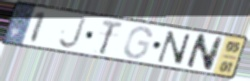1: (31, 11, 48, 44)
G: (122, 25, 154, 60)
J: (57, 15, 89, 50)
N: (183, 33, 225, 73), (156, 29, 192, 67)
T: (97, 18, 125, 56)
